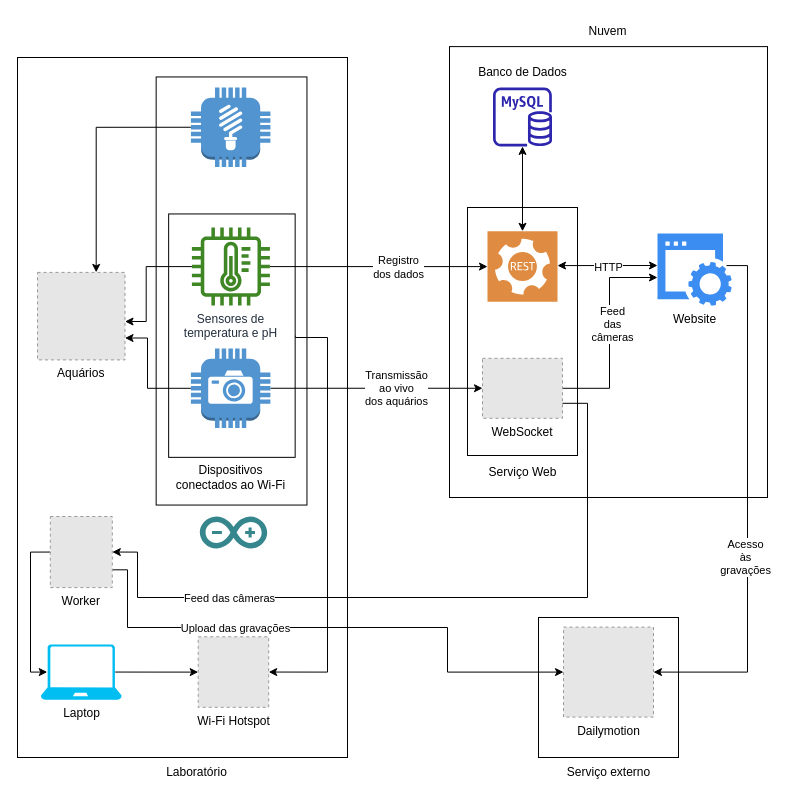
Some shapes in this 788 by 805 pixel diagram are drawn without their labels. Grey dashed boxes stand in for pictures. The shapes that lost their labels are listed below. From the top down, each one's centre as x and y in pixels, then its label:
At point 230,126: "Sensores e controladores de luminosidade".
At point 522,266: "API REST".
At point 230,388: "Câmeras".
At point 233,532: "Dispositivos Arduino, ESP32 e ESP32-CAM".
